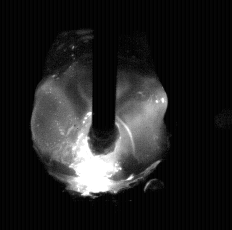arame: (93, 0, 117, 155)
poca: (30, 0, 163, 230)
